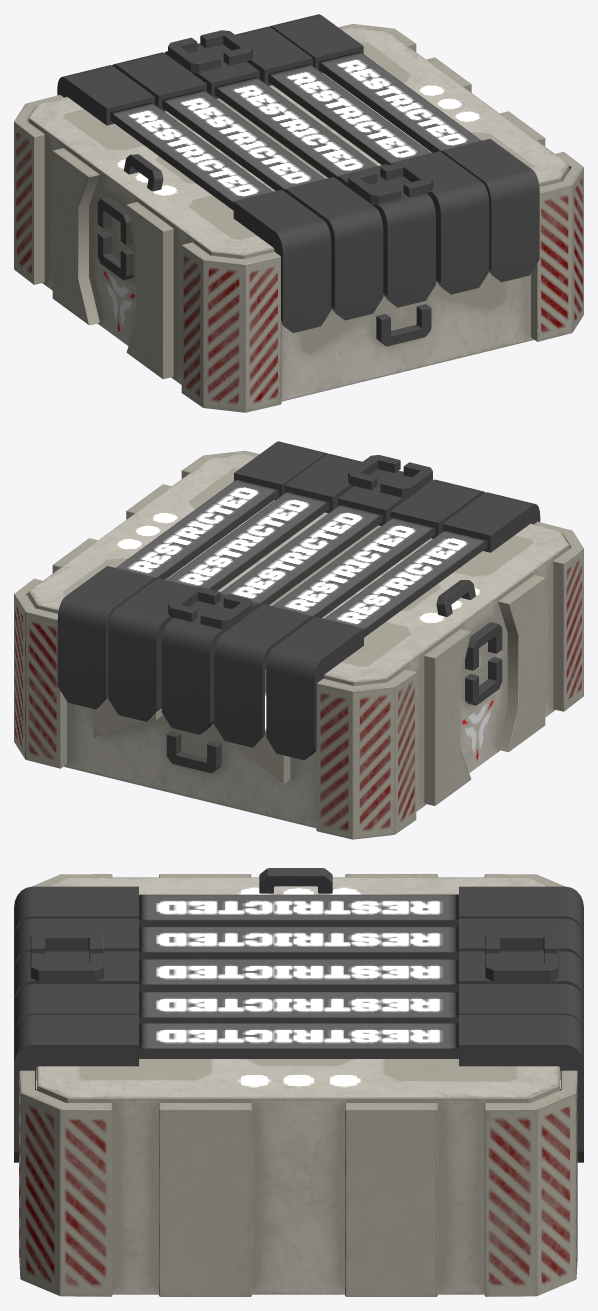
Rendered from SM_Crates3pt3-2.fbx.
3 views of the same model, one above another, from view 1: azimuth 30°, elevation 25°; view 2: azimuth 150°, elevation 25°; view 3: azimuth 270°, elevation 25° (orthographic). The views are drawn at different scales.
Visible parts, largest first — view 1: SM_Crates3pt3-2_LOD0; view 2: SM_Crates3pt3-2_LOD0; view 3: SM_Crates3pt3-2_LOD0.
Boxes of the visible parts, <box> form: SM_Crates3pt3-2_LOD0: <box>14,14,583,412</box>; SM_Crates3pt3-2_LOD0: <box>14,441,583,839</box>; SM_Crates3pt3-2_LOD0: <box>14,868,583,1296</box>.
Size of the model in its own units: 106 by 48.96 by 108.
Materials: 1 (1 with a texture image).
